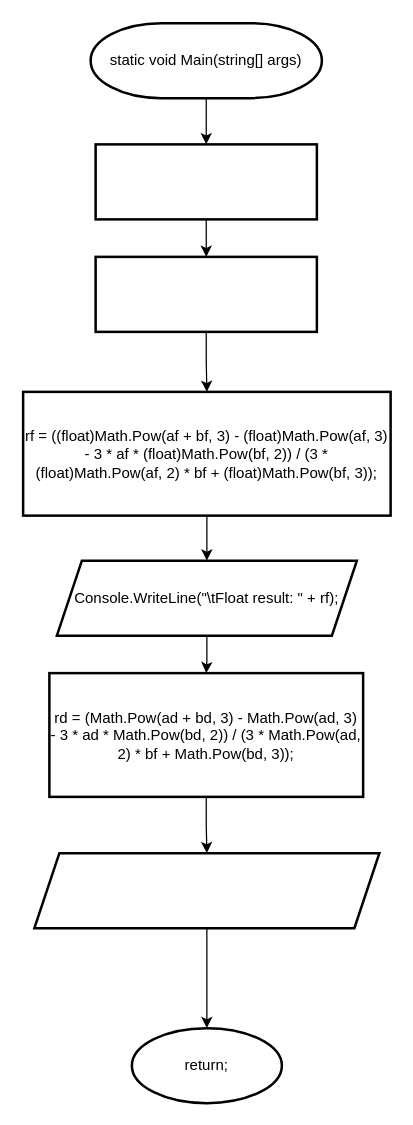
The diagram is 413 pixels wide and 1125 high, and some of its shapes have lost their labels. Here are the shapes that lost their labels. From the top down, the centre of each, then its label:
(x=206, y=181): float af = 100f, bf = 0.001f, rf;
(x=206, y=293): double ad = 100, bd = 0.001, rd;
(x=206, y=890): Console.WriteLine("\tDouble result: " + rd);
